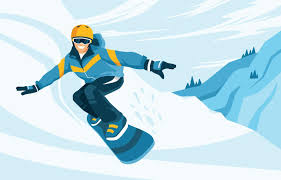snowboard: (85, 110, 155, 165)
